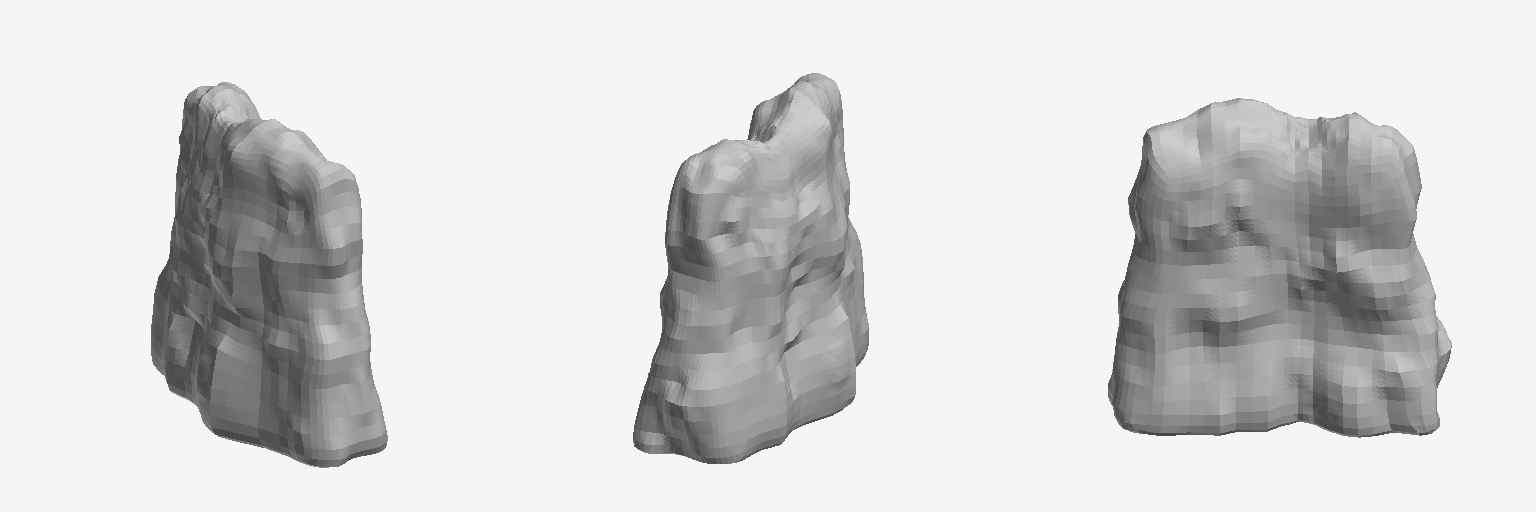
Rendered from Rock.obj.
The picture shows the model from 3 angles: view 1: azimuth 30°, elevation 25°; view 2: azimuth 150°, elevation 25°; view 3: azimuth 270°, elevation 25°; orthographic projection.
Visible parts, largest first — view 1: polySurface8 pCube20; view 2: polySurface8 pCube20; view 3: polySurface8 pCube20.
Boxes of the visible parts, <box> form: polySurface8 pCube20: <box>151,82,387,467</box>; polySurface8 pCube20: <box>633,73,868,463</box>; polySurface8 pCube20: <box>1108,98,1451,437</box>.
Size of the model in its own units: 3.5 by 7.61 by 7.78.